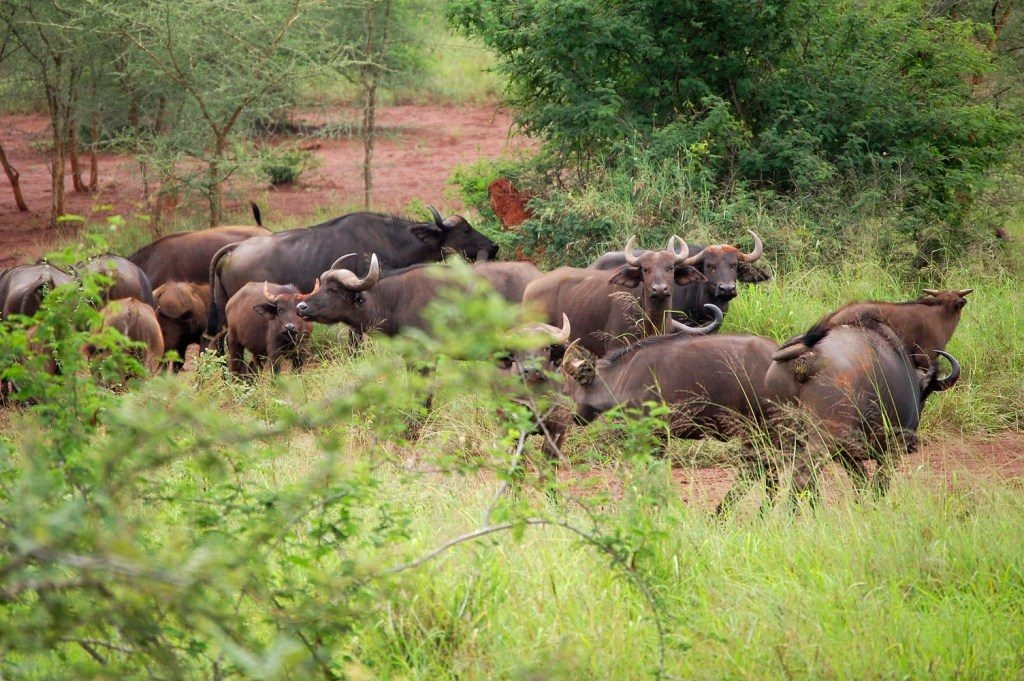buffalo: (202, 200, 505, 382), (552, 326, 801, 527), (759, 317, 964, 504), (293, 249, 556, 375), (475, 304, 591, 526), (111, 216, 279, 361), (515, 232, 693, 365), (585, 224, 768, 348), (816, 285, 978, 381), (222, 274, 321, 405), (1, 241, 83, 374), (82, 296, 173, 402), (70, 251, 157, 340)
